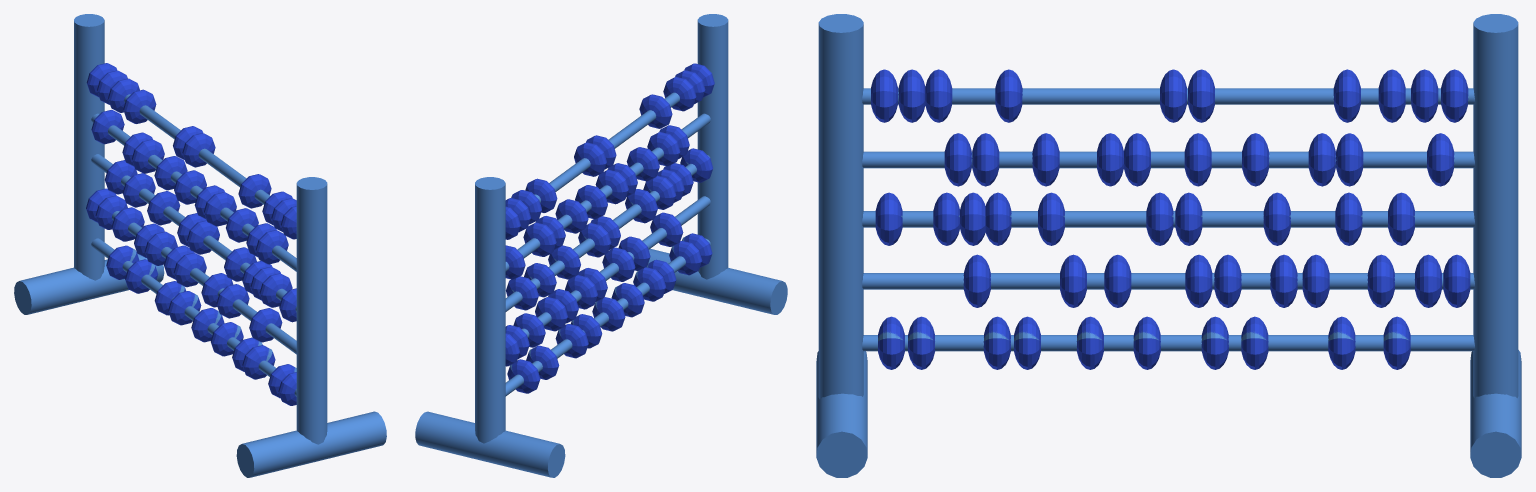
Rendered from Abacus2.fbx.
The picture shows the model from 3 angles, left to right: view 1: azimuth 30°, elevation 25°; view 2: azimuth 150°, elevation 25°; view 3: azimuth 270°, elevation 25°; orthographic projection. The views are drawn at different scales.
Parts seen in each view (by area): view 1: pSphere51; view 2: pSphere51; view 3: pSphere51.
Part boxes in pixels (x1,y1,x2,y2): pSphere51: (14, 14, 386, 477); pSphere51: (415, 14, 787, 477); pSphere51: (816, 14, 1521, 477).
Size of the model in its own units: 3.03 by 6.06 by 9.51.
1 material, 1 textured.
